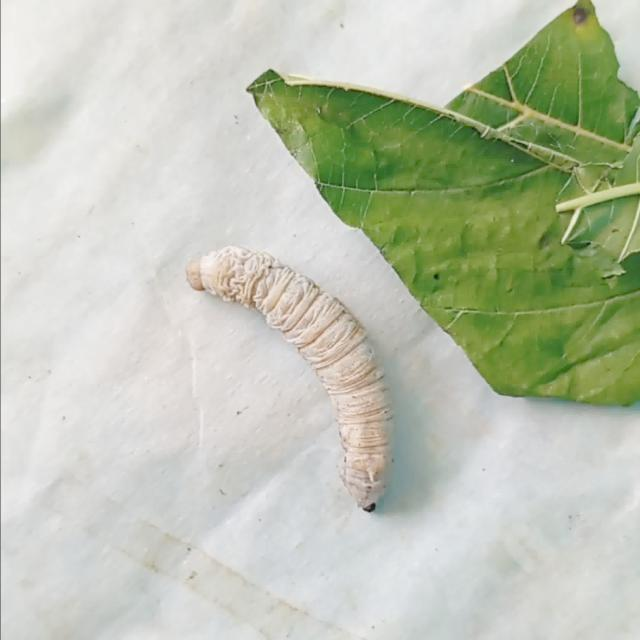Grasserie: (185, 230, 403, 523)
